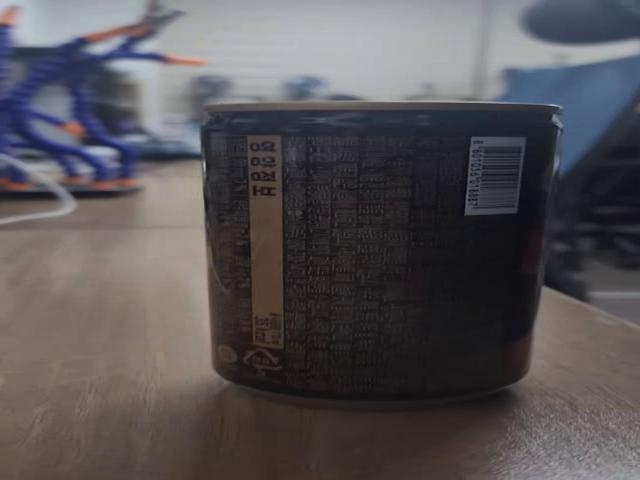Canned_drinks: (195, 108, 534, 408)
